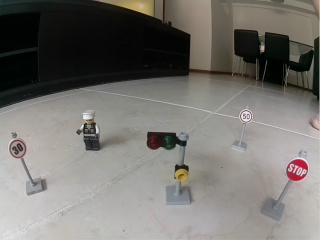Person: (74, 109, 101, 152)
Red Traffic Light: (143, 128, 193, 207)
Speed Limit 30: (8, 139, 27, 159)
Speed Limit 50: (239, 109, 252, 123)
Stop Sign: (285, 158, 309, 182)
